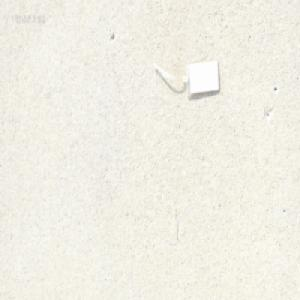LuggageTag: (151, 57, 221, 97)
